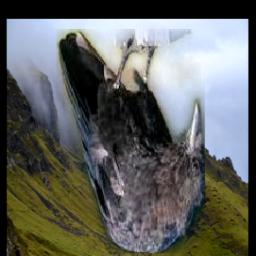Crow: (58, 30, 206, 254)
